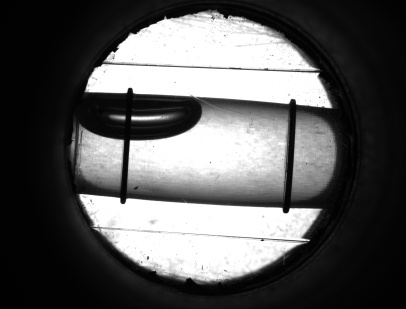line: (277, 117, 301, 191), (116, 145, 133, 185)
